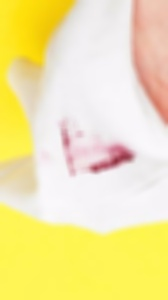lipstick: (58, 116, 92, 180), (83, 140, 134, 176)
